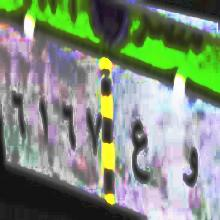1: (34, 93, 51, 158)
6: (8, 84, 27, 148), (60, 101, 79, 160)
7: (85, 103, 103, 160)
ain: (129, 109, 152, 192)
waw: (176, 124, 200, 204)
